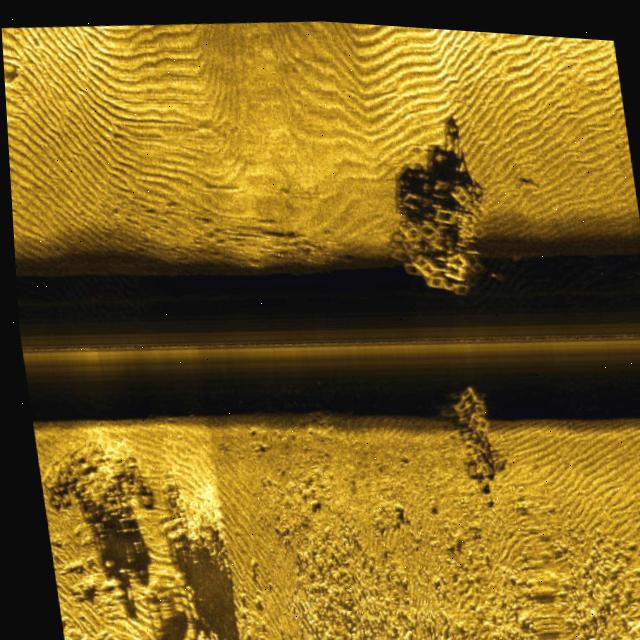artificial reef: (389, 159, 504, 303), (437, 373, 495, 474)
